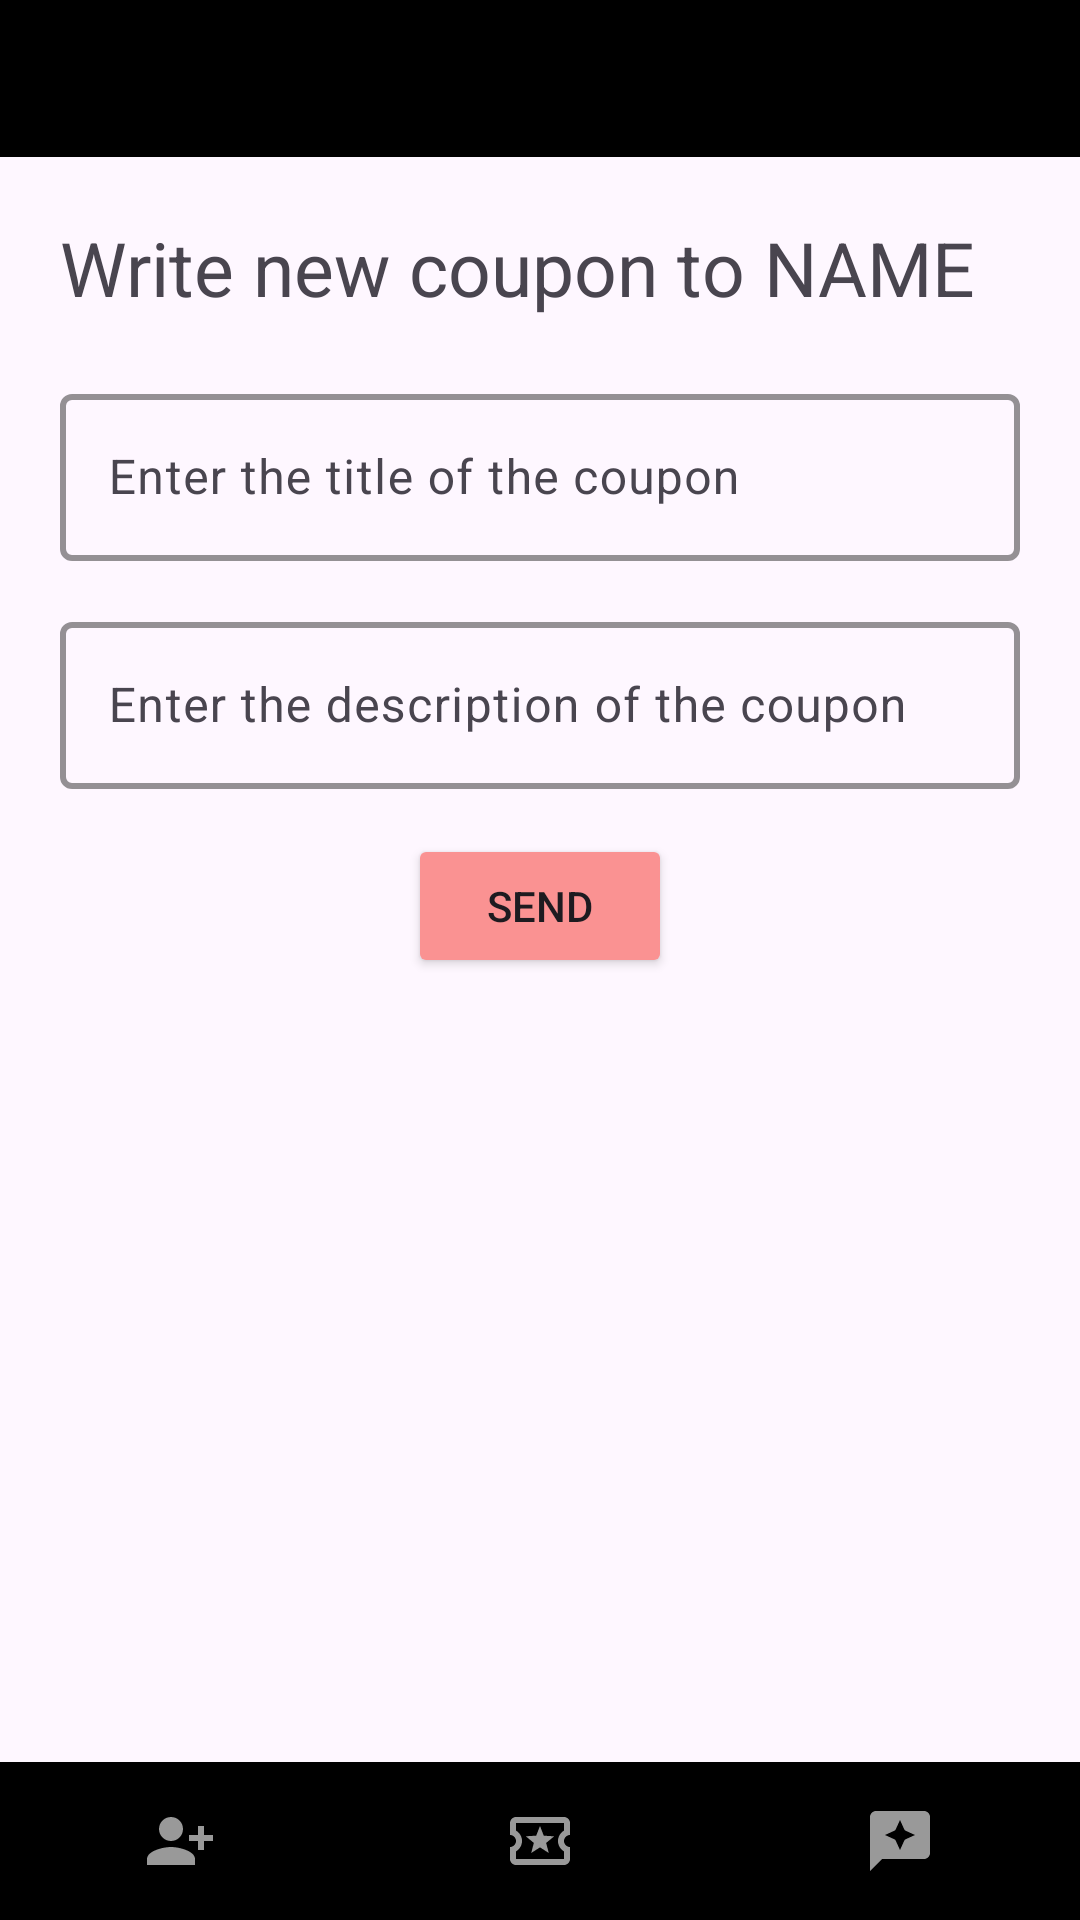

Locate icon controls on the screen. Image size 1080x1920, boxes as (x1, y1, x2, y2).
local activity: (510, 1817, 570, 1865)
person add: (147, 1817, 213, 1865)
reviews: (870, 1811, 930, 1871)
